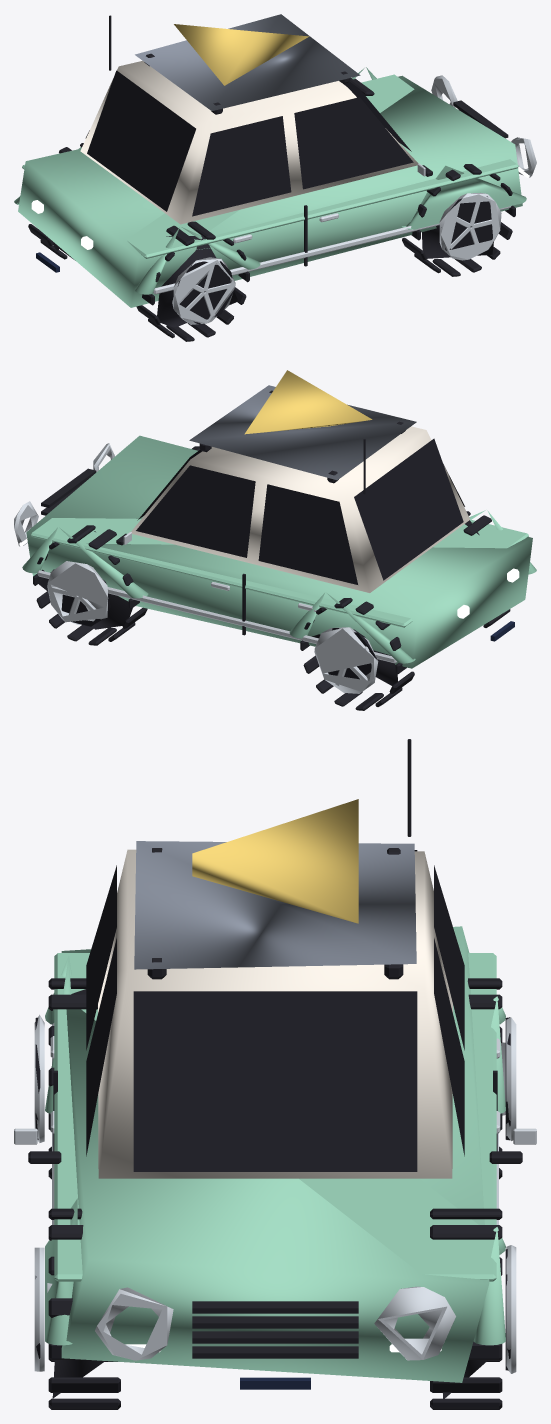
Rendered from car_b.glb.
The picture shows the model from 3 angles, top to bottom: view 1: azimuth 30°, elevation 25°; view 2: azimuth 150°, elevation 25°; view 3: azimuth 270°, elevation 25°; orthographic projection. The views are drawn at different scales.
Parts seen in each view (by area): view 1: car_b; view 2: car_b; view 3: car_b.
Part boxes in pixels (x1,y1,x2,y2): car_b: (14,14,536,341); car_b: (14,370,536,710); car_b: (14,739,536,1409).
Bounding box in the file's own units: 3.88 × 2.04 × 2.21.
Materials: 1 (1 with a texture image).
